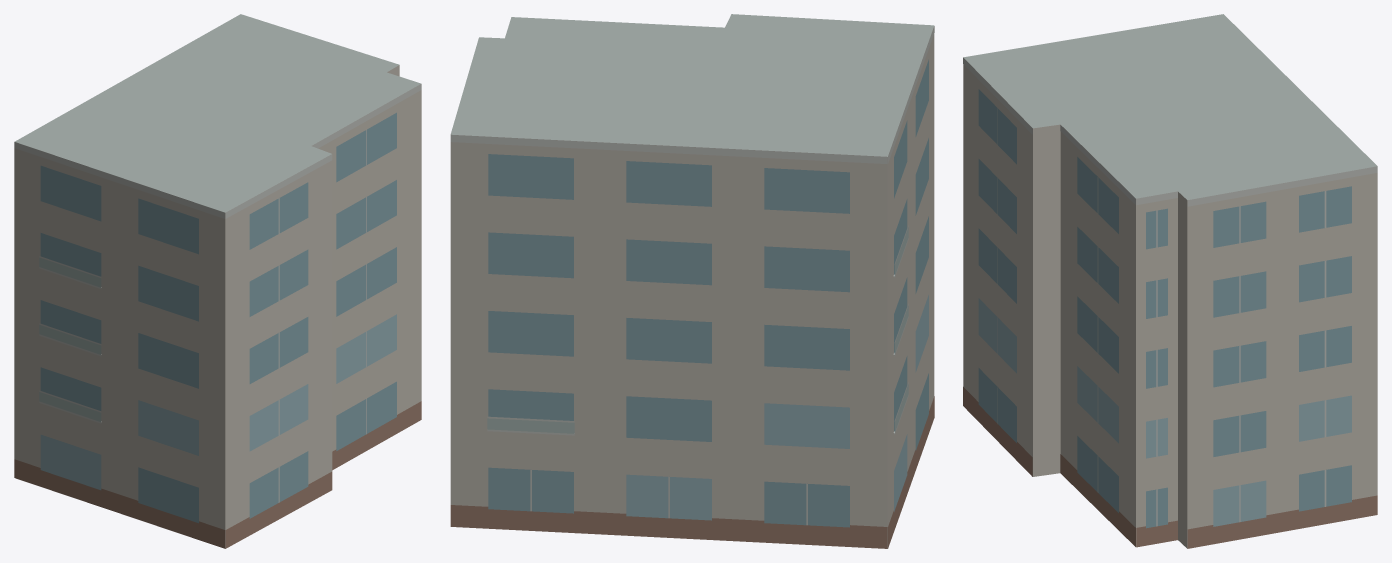
Rendered from survey-upis-32852046.glb.
3 renders of one model, left to right at view 1: azimuth 30°, elevation 25°; view 2: azimuth 150°, elevation 25°; view 3: azimuth 270°, elevation 25°, orthographic. The views are drawn at different scales.
Visible parts, largest first — view 1: survey-upis-32852046.tmp; view 2: survey-upis-32852046.tmp; view 3: survey-upis-32852046.tmp.
Part boxes in pixels (left/top/right/bottom): survey-upis-32852046.tmp: left=14, top=14, right=421, bottom=548; survey-upis-32852046.tmp: left=450, top=14, right=934, bottom=548; survey-upis-32852046.tmp: left=963, top=14, right=1377, bottom=548.
Size of the model in its own units: 14.9 by 13 by 14.02.
